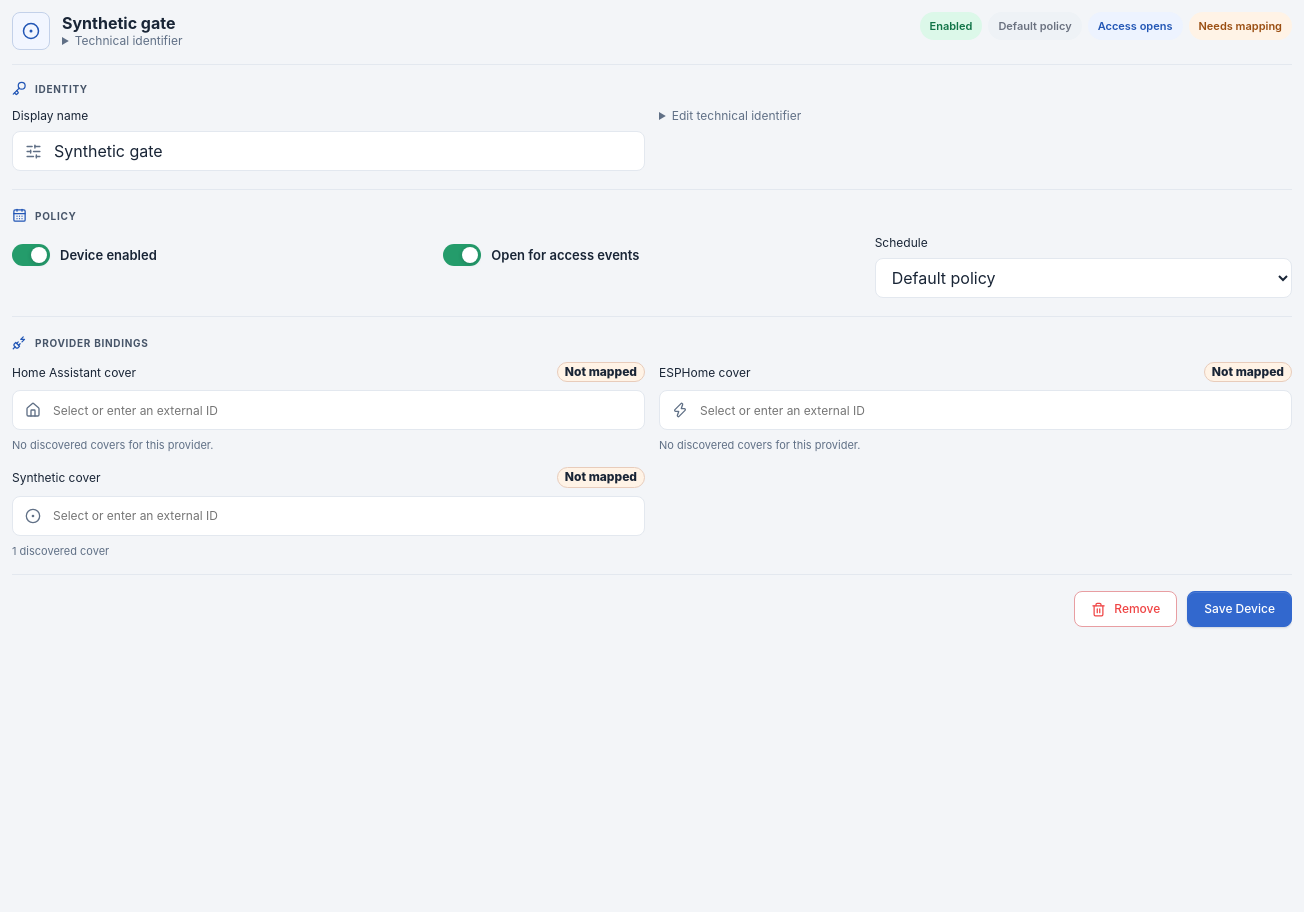
discovers, renders, converts and confirms a third descriptor through the real generic owner and editor
Type "selection-third" into the field labelled "Synthetic cover Not mapped 1 discovered cover".
click(342, 516); type("selection-third")  # box top-left (51, 507), bottom-right (632, 524)
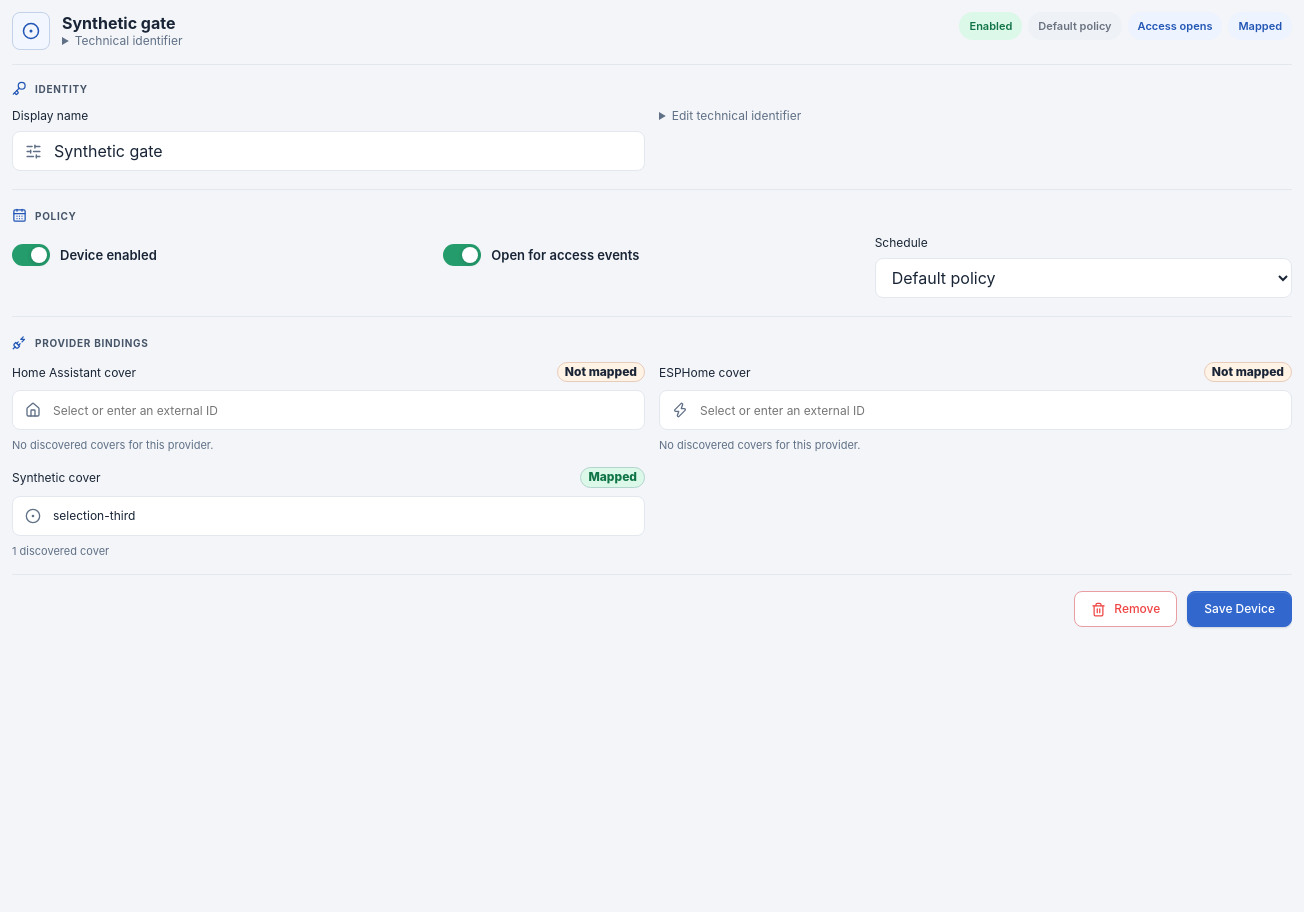
Click the button "Save Device".
click(1240, 610)  # box top-left (1187, 592), bottom-right (1292, 628)
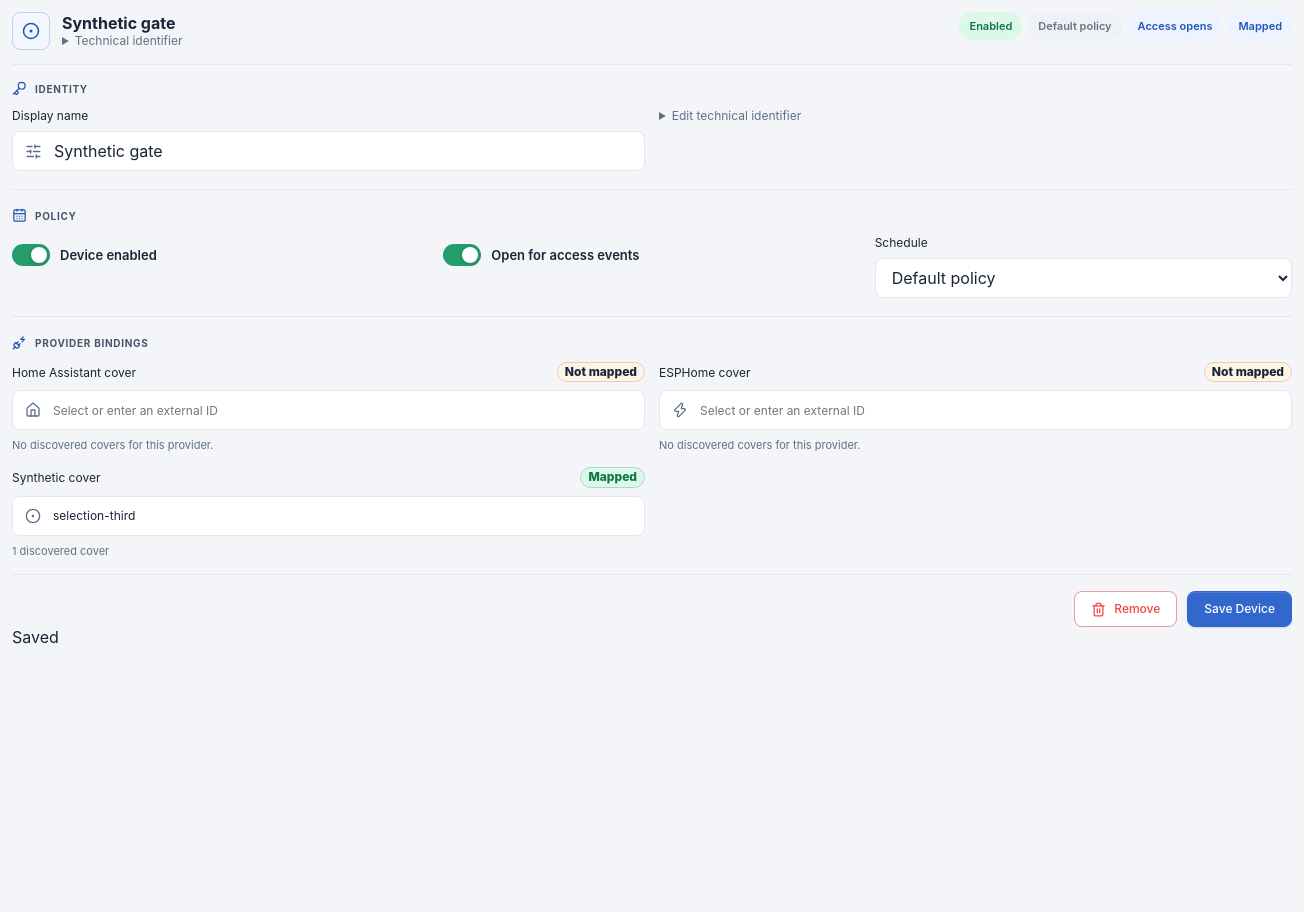
Check: the text "Saved" is shown, box top-left (12, 628), bottom-right (59, 648)
